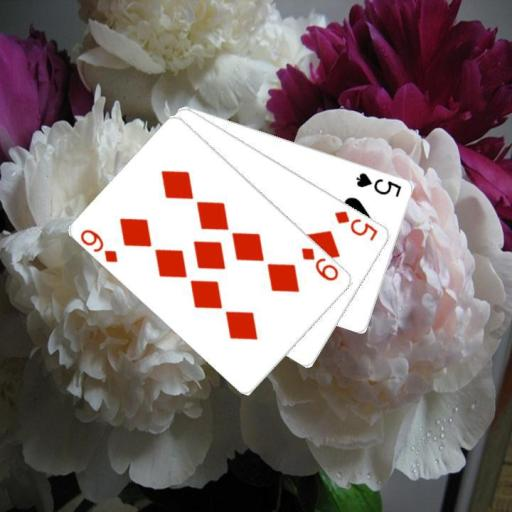5D: (331, 207, 380, 242)
5S: (353, 170, 404, 199)
9D: (78, 226, 120, 265), (299, 244, 341, 282)
